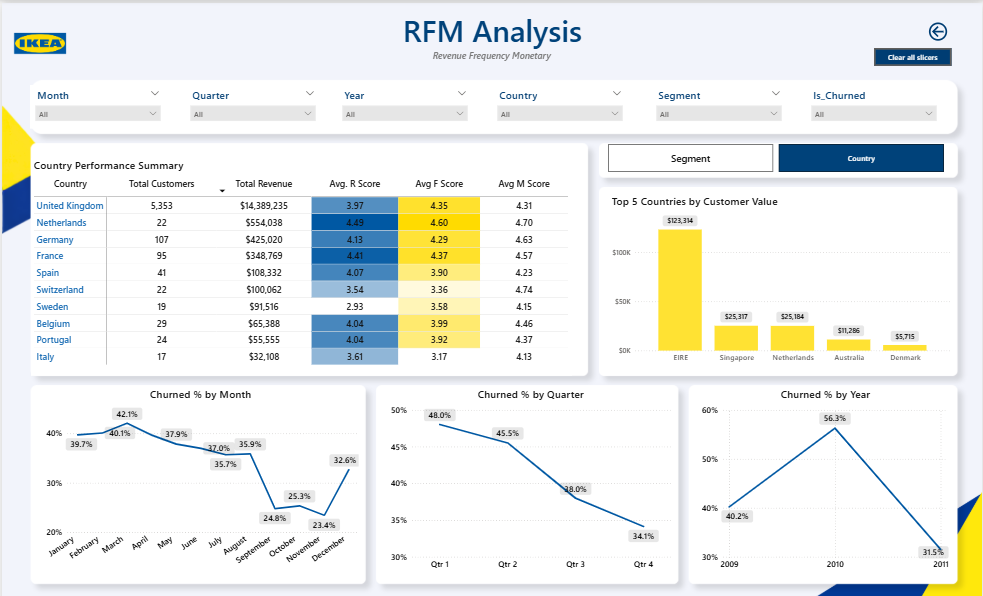

The page's visual inventory and layout, read from the dashboard file:
{"tool":"powerbi","page":{"name":"RFM Analysis","canvas":[1750,1100],"ordinal":1},"visuals":[{"type":"slicer","fields":{"Values":["Sheet1.InvoiceDate.Variation.Date Hierarchy.Month"]},"box":[50.2,146.5,242.9,78.3],"z":0},{"type":"columnChart","title":"Segment by Customer Value","fields":{"Category":["Sheet1.Segment"],"Y":["Sheet1.Avg Customer Value"]},"box":[1082,341.2,614.2,311.1],"z":0,"group":"g2"},{"type":"lineChart","fields":{"Category":["Sheet1.InvoiceMonth.Variation.Date Hierarchy.Month"],"Y":["Sheet1.Churned %"]},"box":[68.2,686.5,574.1,337.2],"z":0,"group":"g1"},{"type":"slicer","fields":{"Values":["Sheet1.InvoiceDate.Variation.Date Hierarchy.Quarter"]},"box":[327.2,146.5,242.9,78.3],"z":1000},{"type":"pivotTable","title":"Segment Performance Summary","fields":{"Values":["Sheet1.Total Customers","Sheet1.Total Revenue","Avg(Sheet1.R_Score)","Avg(Sheet1.F_Score)","Avg(Sheet1.M_Score)"],"Rows":["Sheet1.Segment"]},"box":[51.1,276.6,966,389.4],"z":1000,"group":"g2"},{"type":"lineChart","fields":{"Category":["Sheet1.InvoiceMonth.Variation.Date Hierarchy.Year"],"Y":["Sheet1.Churned %"]},"box":[1244.5,686.5,451.6,337.2],"z":1000,"group":"g1"},{"type":"slicer","fields":{"Values":["Sheet1.InvoiceDate.Variation.Date Hierarchy.Year"]},"box":[598.2,146.5,242.9,78.3],"z":2000},{"type":"lineChart","fields":{"Category":["Sheet1.InvoiceMonth.Variation.Date Hierarchy.Quarter"],"Y":["Sheet1.Churned %"]},"box":[690.5,686.5,509.9,337.2],"z":2000,"group":"g1"},{"type":"slicer","fields":{"Values":["Sheet1.Country"]},"box":[875.2,146.5,242.9,78.3],"z":3000},{"type":"slicer","fields":{"Values":["Sheet1.Segment"]},"box":[1158.2,146.5,242.9,78.3],"z":4000},{"type":"slicer","fields":{"Values":["Sheet1.Is_Churned"]},"box":[1435.2,146.5,242.9,78.3],"z":5000},{"type":"group","id":"g1","title":"Revenue","box":[68.2,686.5,1627.9,337.2],"z":7000},{"type":"bookmarkNavigator","box":[1081.9,250.9,600.2,50.2],"z":8000},{"type":"image","box":[0,32.1,136.5,80.3],"z":9000},{"type":"textbox","box":[635.1,8,479.7,94.3],"z":10000},{"type":"actionButton","box":[1650,28.1,46.2,44.2],"z":11000},{"type":"actionButton","box":[1557.7,80.3,138.5,32.1],"z":12000},{"type":"textbox","box":[588,78.3,574.1,46.2],"z":13000},{"type":"group","id":"g2","title":"Segment","box":[51.1,276.6,1645.1,389.4],"z":14000}]}

Visuals, with their boxes on the page's 1750x1100 design canvas (x1, y1, x2, y2). These are canvas units, not pixel positions in the 983x596 screenshot, which may show the page scaled, cropped or inside an application window:
slicer - Sheet1.InvoiceDate.Variation.Date Hierarchy.Month: [left=50, top=146, right=293, bottom=225]
"Segment by Customer Value" columnChart: [left=1082, top=341, right=1696, bottom=652]
lineChart - Sheet1.InvoiceMonth.Variation.Date Hierarchy.Month x Sheet1.Churned %: [left=68, top=686, right=642, bottom=1024]
slicer - Sheet1.InvoiceDate.Variation.Date Hierarchy.Quarter: [left=327, top=146, right=570, bottom=225]
"Segment Performance Summary" pivotTable: [left=51, top=277, right=1017, bottom=666]
lineChart - Sheet1.InvoiceMonth.Variation.Date Hierarchy.Year x Sheet1.Churned %: [left=1244, top=686, right=1696, bottom=1024]
slicer - Sheet1.InvoiceDate.Variation.Date Hierarchy.Year: [left=598, top=146, right=841, bottom=225]
lineChart - Sheet1.InvoiceMonth.Variation.Date Hierarchy.Quarter x Sheet1.Churned %: [left=690, top=686, right=1200, bottom=1024]
slicer - Sheet1.Country: [left=875, top=146, right=1118, bottom=225]
slicer - Sheet1.Segment: [left=1158, top=146, right=1401, bottom=225]
slicer - Sheet1.Is_Churned: [left=1435, top=146, right=1678, bottom=225]
"Revenue" group: [left=68, top=686, right=1696, bottom=1024]
bookmarkNavigator: [left=1082, top=251, right=1682, bottom=301]
image: [left=0, top=32, right=136, bottom=112]
textbox: [left=635, top=8, right=1115, bottom=102]
actionButton: [left=1650, top=28, right=1696, bottom=72]
actionButton: [left=1558, top=80, right=1696, bottom=112]
textbox: [left=588, top=78, right=1162, bottom=124]
"Segment" group: [left=51, top=277, right=1696, bottom=666]
